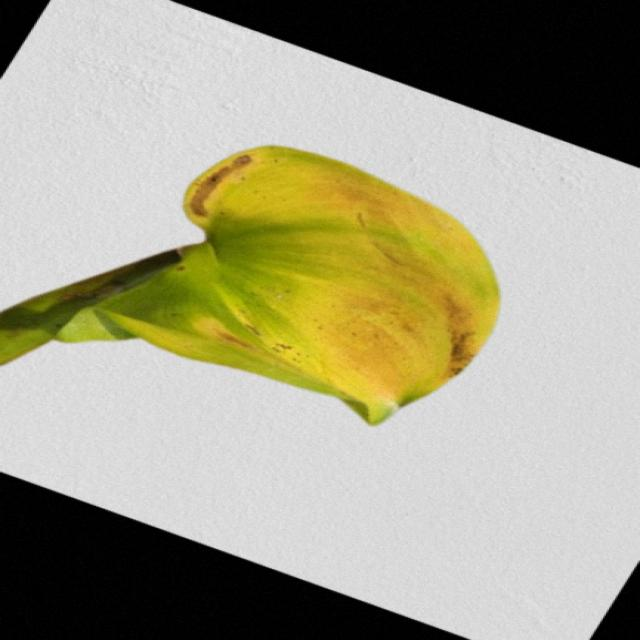daun berpenyakit kuning: (0, 146, 498, 424)
